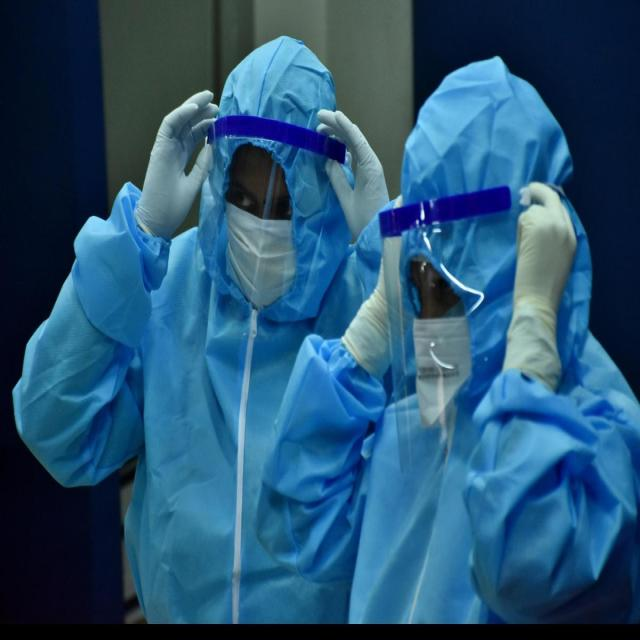Gloves: (482, 178, 588, 374), (135, 80, 219, 279), (310, 88, 398, 258)
Mask: (210, 195, 306, 298), (397, 311, 490, 392)
